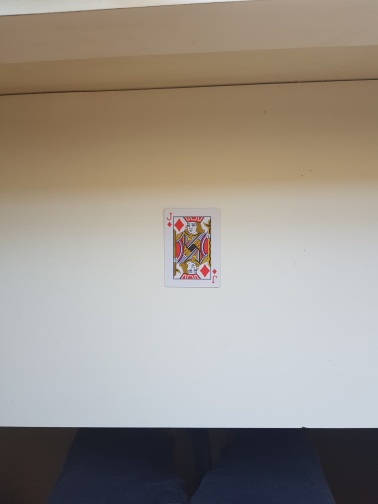jack: (162, 207, 222, 288)
